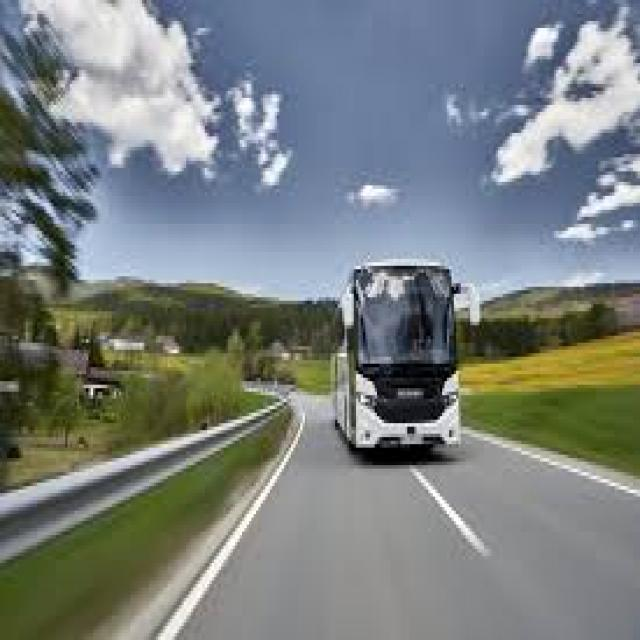BUS: (293, 248, 484, 455)
